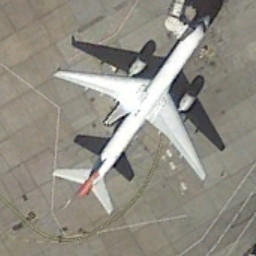Airplane: (47, 8, 236, 227)
